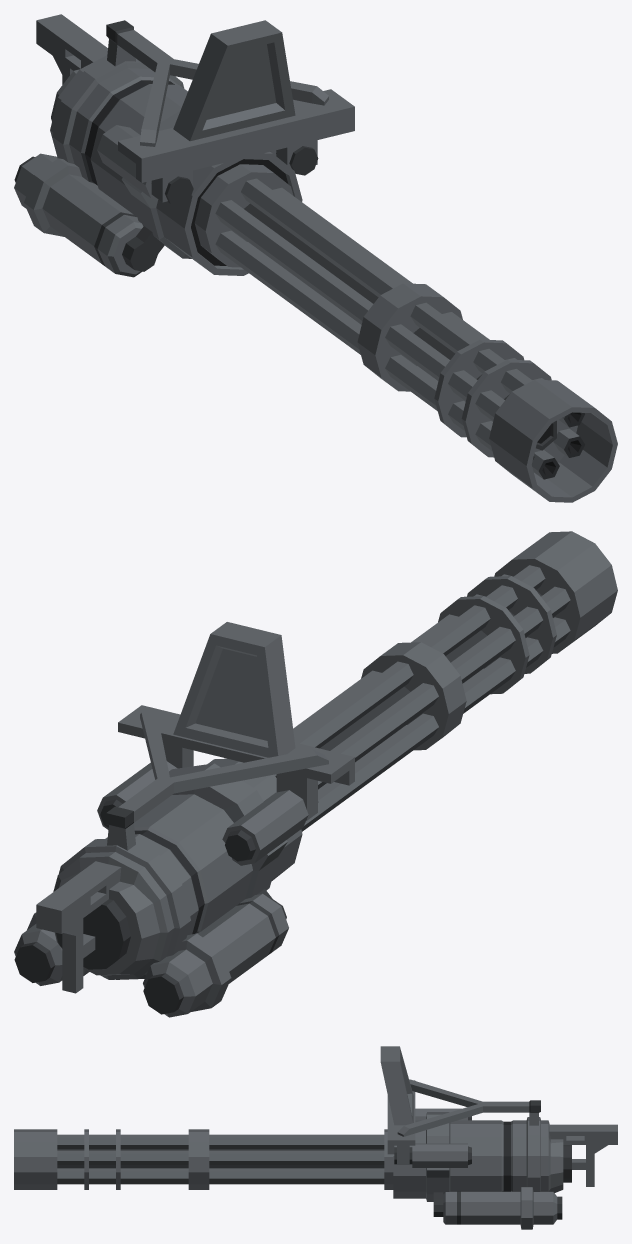
The model's file is SM_Veh_Heli_Attach_Minigun.fbx.
3 renders of one model, top to bottom at view 1: azimuth 30°, elevation 25°; view 2: azimuth 150°, elevation 25°; view 3: azimuth 270°, elevation 25°, orthographic. The views are drawn at different scales.
Parts seen in each view (by area): view 1: SM_Veh_Heli_Attach_Minigun, SM_Veh_Heli_Attach_Minigun_Barrel; view 2: SM_Veh_Heli_Attach_Minigun, SM_Veh_Heli_Attach_Minigun_Barrel; view 3: SM_Veh_Heli_Attach_Minigun, SM_Veh_Heli_Attach_Minigun_Barrel.
Part boxes in pixels (x1=…): SM_Veh_Heli_Attach_Minigun: x1=14, y1=14, x2=354, y2=277; SM_Veh_Heli_Attach_Minigun_Barrel: x1=194, y1=164, x2=617, y2=502; SM_Veh_Heli_Attach_Minigun: x1=14, y1=622, x2=354, y2=1017; SM_Veh_Heli_Attach_Minigun_Barrel: x1=274, y1=531, x2=617, y2=831; SM_Veh_Heli_Attach_Minigun: x1=380, y1=1046, x2=617, y2=1229; SM_Veh_Heli_Attach_Minigun_Barrel: x1=14, y1=1129, x2=393, y2=1189.
Bounding box in the file's own units: 36.05 × 43.99 × 153.
